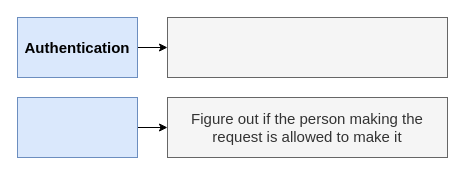
This 465x175 diagram has some shape labels left out. The centre of each missing label's shape, as x and y in pixels:
Authorization: the point at 77,127
Figure out who is making a request: the point at 307,47
